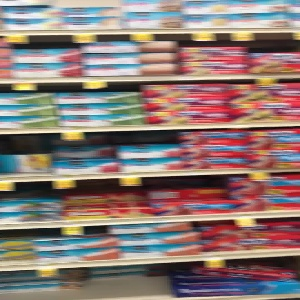void: (1, 267, 172, 299)
